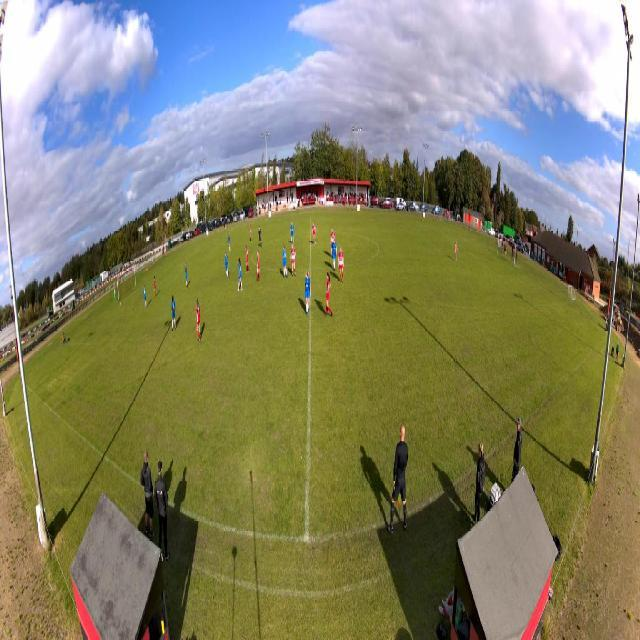ball: (120, 303, 121, 305)
player: (325, 272, 333, 318), (304, 270, 312, 316), (331, 238, 338, 272), (338, 246, 344, 283), (195, 300, 200, 342), (290, 244, 296, 278), (282, 244, 288, 278), (237, 258, 243, 292), (171, 296, 176, 331), (256, 250, 260, 281), (246, 246, 250, 274), (225, 252, 229, 279), (290, 222, 295, 243), (330, 227, 335, 247), (312, 222, 316, 246), (143, 285, 147, 309), (454, 241, 458, 262), (258, 226, 262, 247), (185, 262, 188, 288), (227, 234, 231, 252), (114, 287, 118, 304), (153, 276, 156, 297), (249, 223, 252, 242)
